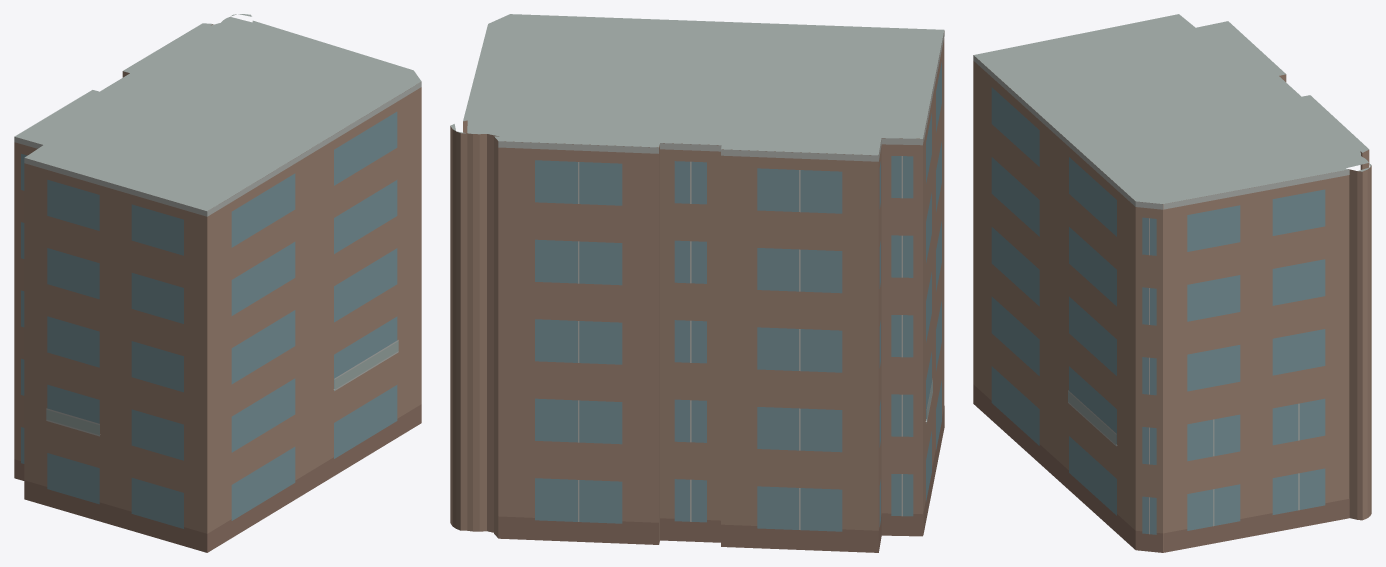
File: survey-upis-32911118.glb
The picture shows the model from 3 angles, left to right: view 1: azimuth 30°, elevation 25°; view 2: azimuth 150°, elevation 25°; view 3: azimuth 270°, elevation 25°; orthographic projection. The views are drawn at different scales.
Visible parts, largest first — view 1: survey-upis-32911118.tmp; view 2: survey-upis-32911118.tmp; view 3: survey-upis-32911118.tmp.
Boxes of the visible parts, <box> form: survey-upis-32911118.tmp: <box>14,14,421,552</box>; survey-upis-32911118.tmp: <box>450,14,944,552</box>; survey-upis-32911118.tmp: <box>973,14,1371,552</box>.
Size of the model in its own units: 17.84 by 15.25 by 15.78.
